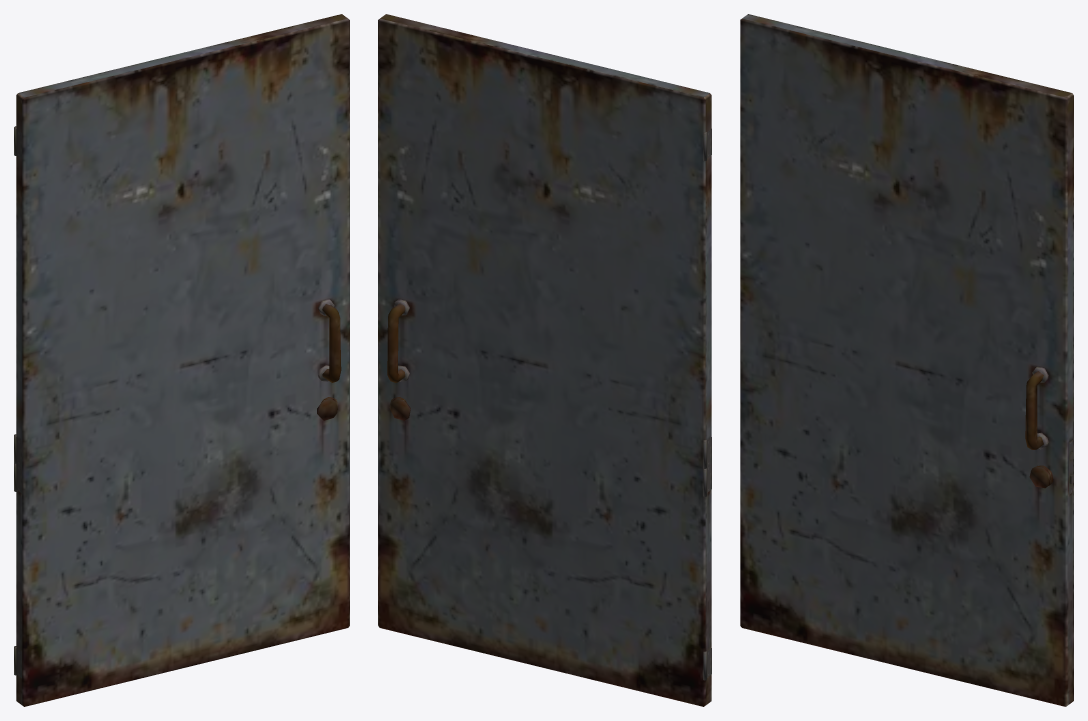
Rendered from door.apartment.a_static.glb.
The picture shows the model from 3 angles, left to right: view 1: azimuth 30°, elevation 25°; view 2: azimuth 150°, elevation 25°; view 3: azimuth 330°, elevation 25°; orthographic projection.
Visible parts, largest first — view 1: door.apartment.a; view 2: door.apartment.a; view 3: door.apartment.a.
Boxes of the visible parts, box(x1,y1,x2,y2) form: door.apartment.a: box(14, 14, 349, 706); door.apartment.a: box(378, 14, 711, 706); door.apartment.a: box(740, 14, 1073, 706).
Bounding box in the file's own units: 1.21 × 2.14 × 0.2172.
Materials: 1 (1 with a texture image).
